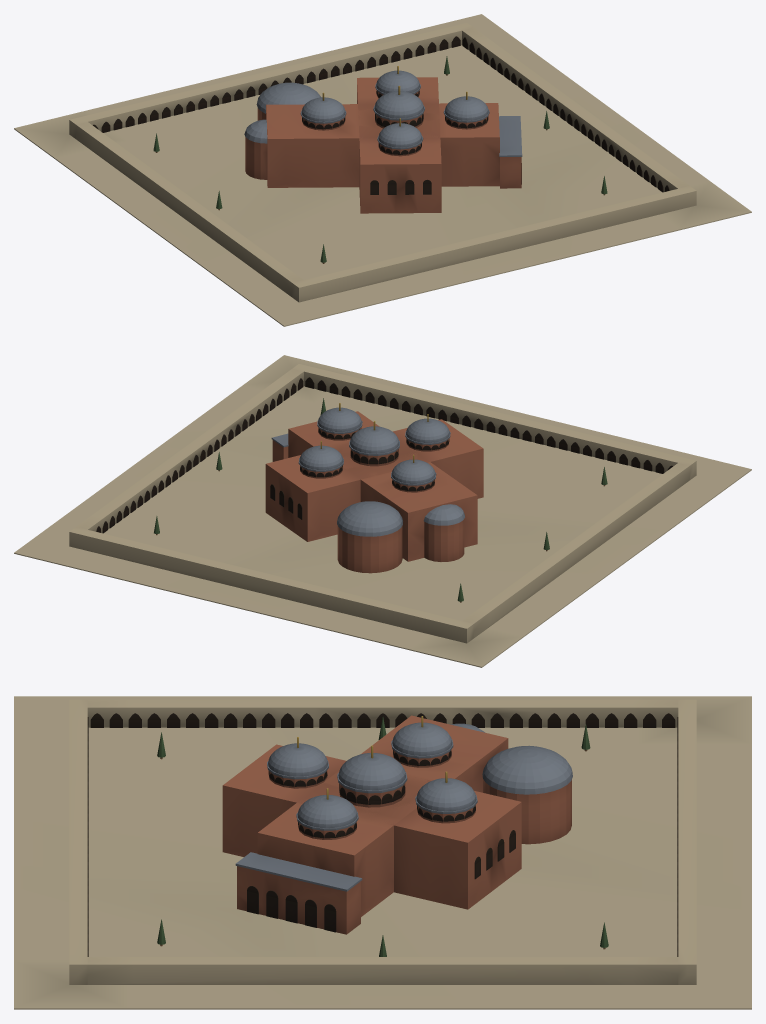
The model's file is holy-apostles.glb.
3 views of the same model, one above another, from view 1: azimuth 30°, elevation 25°; view 2: azimuth 150°, elevation 25°; view 3: azimuth 270°, elevation 25° (orthographic). The views are drawn at different scales.
Parts seen in each view (by area): view 1: p0_precinct, p1_church; view 2: p0_precinct, p1_church; view 3: p0_precinct, p1_church, p2_garden.
Part boxes in pixels (x1,y1,x2,y2): p0_precinct: (14, 14, 751, 326); p1_church: (244, 66, 522, 213); p0_precinct: (14, 355, 751, 667); p1_church: (265, 403, 483, 573); p0_precinct: (14, 696, 751, 1009); p1_church: (222, 715, 572, 934); p2_garden: (157, 717, 608, 956).
Bounding box in the file's own units: 200 × 34.63 × 200.
